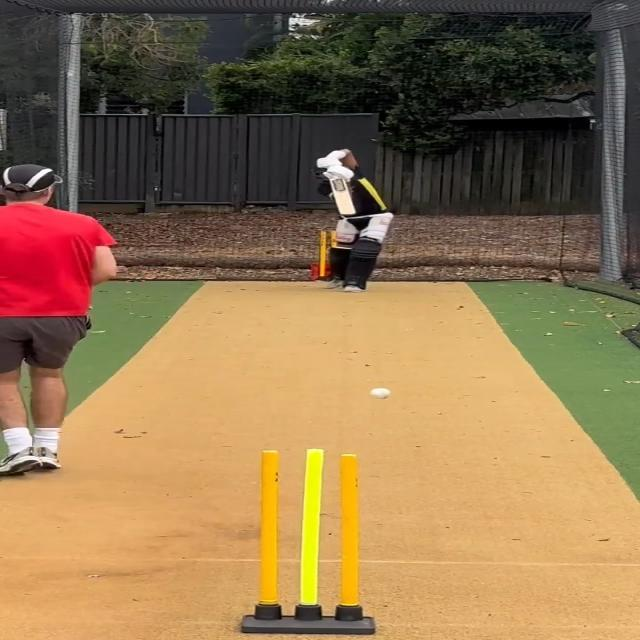ball: (369, 386, 393, 401)
stump: (239, 444, 376, 635)
